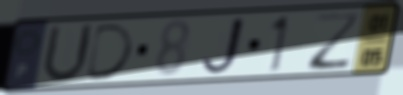1: (267, 14, 292, 74)
8: (152, 18, 194, 80)
D: (82, 21, 137, 83)
J: (198, 14, 250, 78)
U: (38, 22, 96, 87)
Z: (306, 9, 365, 72)
